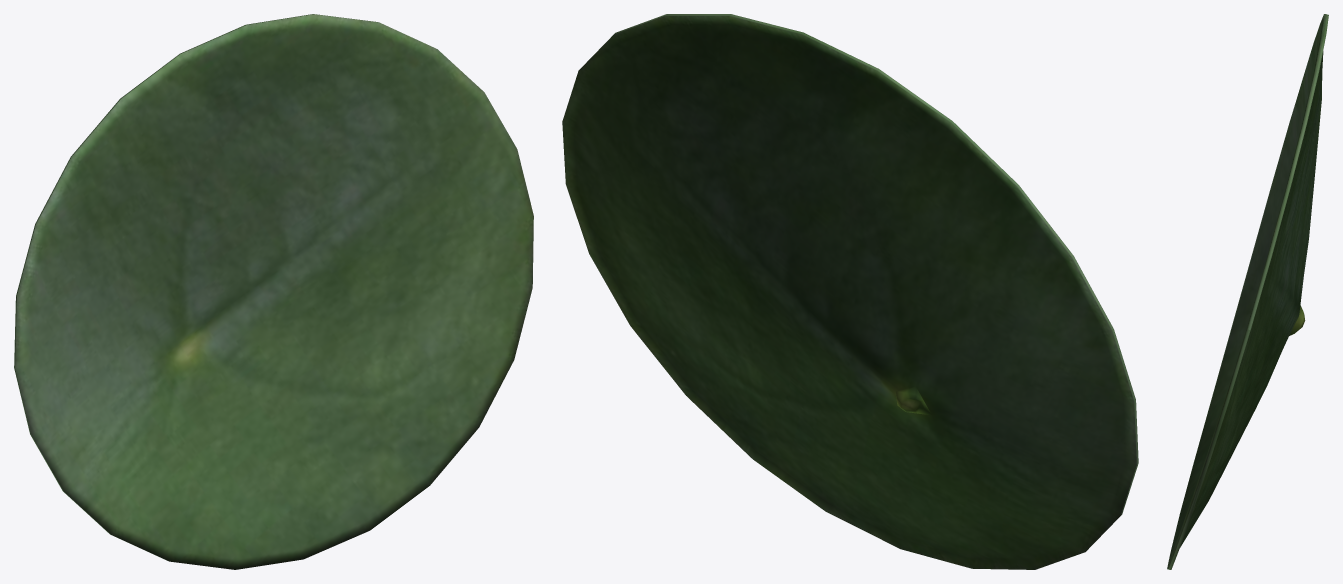
The picture shows the model from 3 angles, left to right: view 1: azimuth 30°, elevation 25°; view 2: azimuth 150°, elevation 25°; view 3: azimuth 270°, elevation 25°; orthographic projection. The views are drawn at different scales.
Parts seen in each view (by area): view 1: Plane.007; view 2: Plane.007; view 3: Plane.007.
Part boxes in pixels (<box>): Plane.007: <box>14,14,533,569</box>; Plane.007: <box>562,14,1138,569</box>; Plane.007: <box>1167,14,1328,569</box>.
Bounding box in the file's own units: 1.27 × 1.17 × 0.3266.
1 material, 1 textured.
